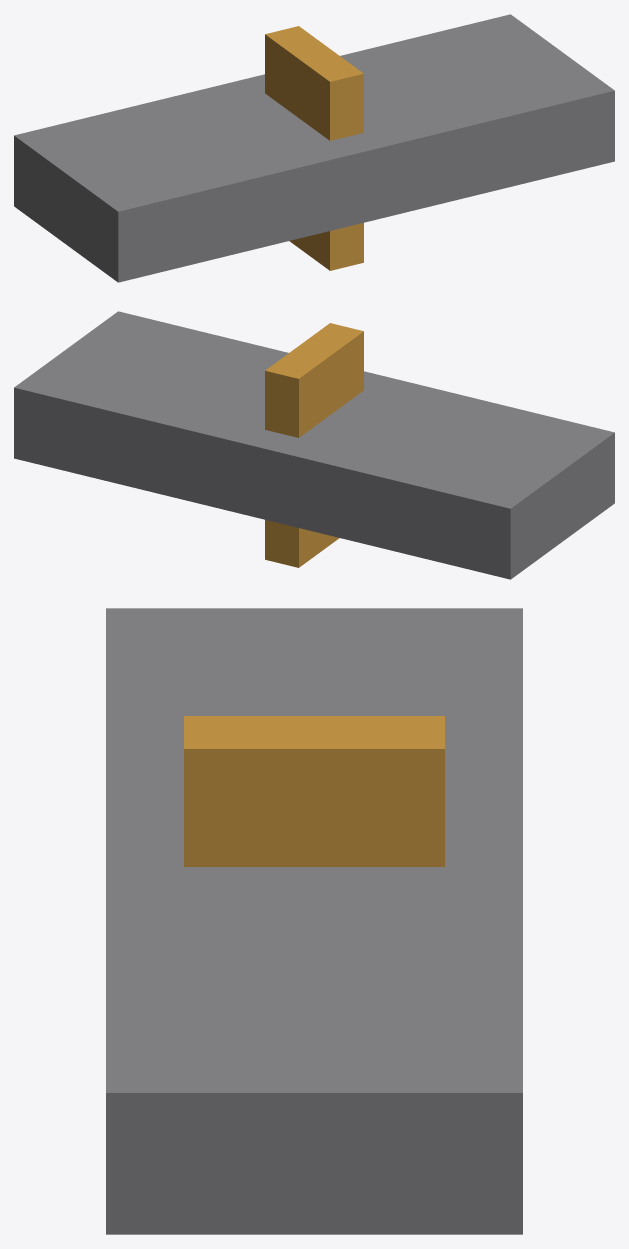
File: ToteGripper.glb
3 views of the same model, one above another, from view 1: azimuth 30°, elevation 25°; view 2: azimuth 150°, elevation 25°; view 3: azimuth 270°, elevation 25° (orthographic). The views are drawn at different scales.
Visible parts, largest first — view 1: TG_Body, TG_Jaw1; view 2: TG_Body, TG_Jaw1; view 3: TG_Body, TG_Jaw1.
Part boxes in pixels (x1,y1,x2,y2): TG_Body: (14,14,614,282); TG_Jaw1: (265,26,363,270); TG_Body: (14,311,614,579); TG_Jaw1: (265,323,363,567); TG_Body: (106,608,522,1234); TG_Jaw1: (184,716,444,866).
Bounding box in the file's own units: 0.22 × 0.08 × 0.08.
